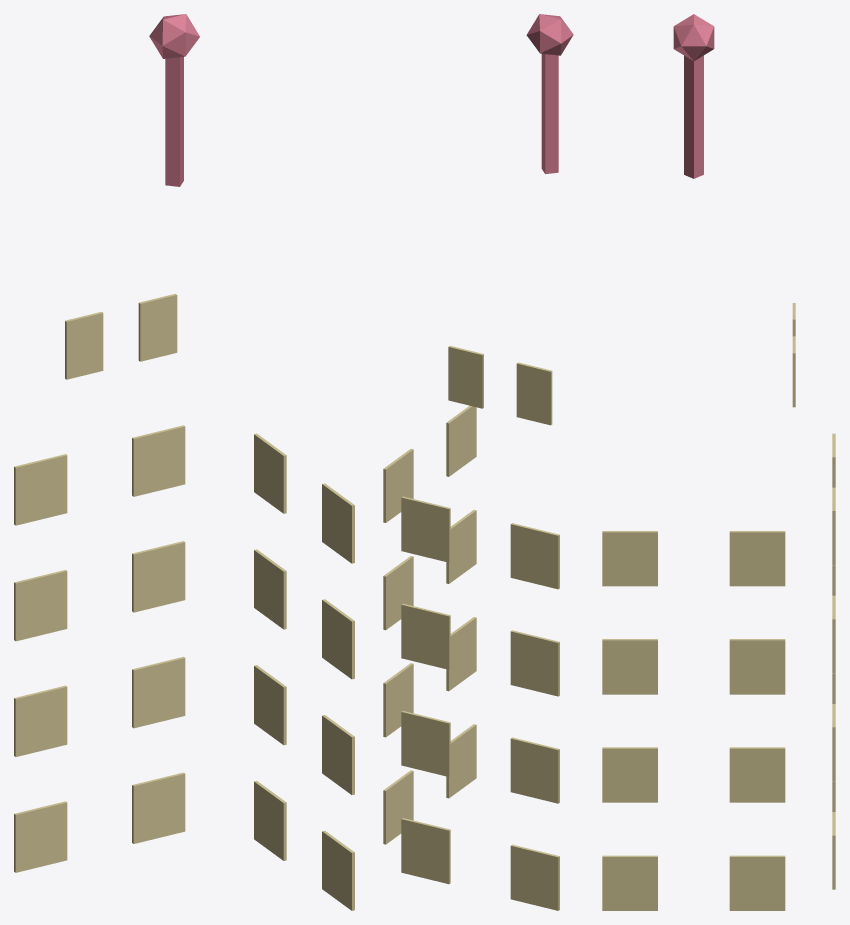
The model's file is Building1_Glow.glb.
3 renders of one model, left to right at view 1: azimuth 30°, elevation 25°; view 2: azimuth 150°, elevation 25°; view 3: azimuth 270°, elevation 25°, orthographic. The views are drawn at different scales.
Parts seen in each view (by area): view 1: Building1_Glow; view 2: Building1_Glow; view 3: Building1_Glow.
Boxes of the visible parts, x1,y1,x2,y2 form: Building1_Glow: (14, 14, 354, 910); Building1_Glow: (383, 14, 573, 910); Building1_Glow: (602, 14, 835, 910).
Size of the model in its own units: 5.86 by 23.06 by 5.86.
